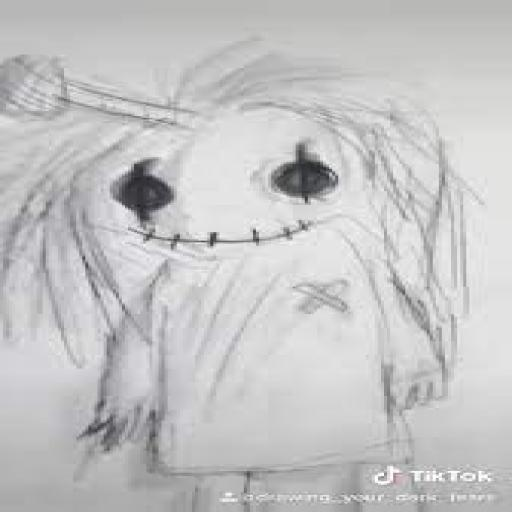person: (0, 44, 484, 459)
